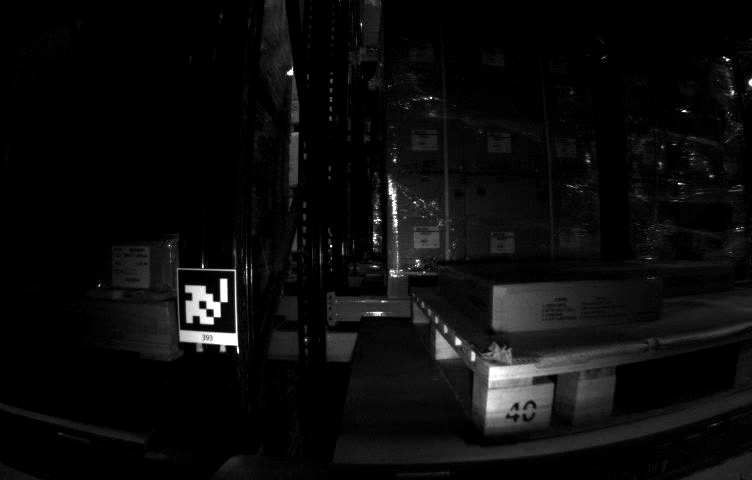True Barcode: (111, 245, 148, 289)
